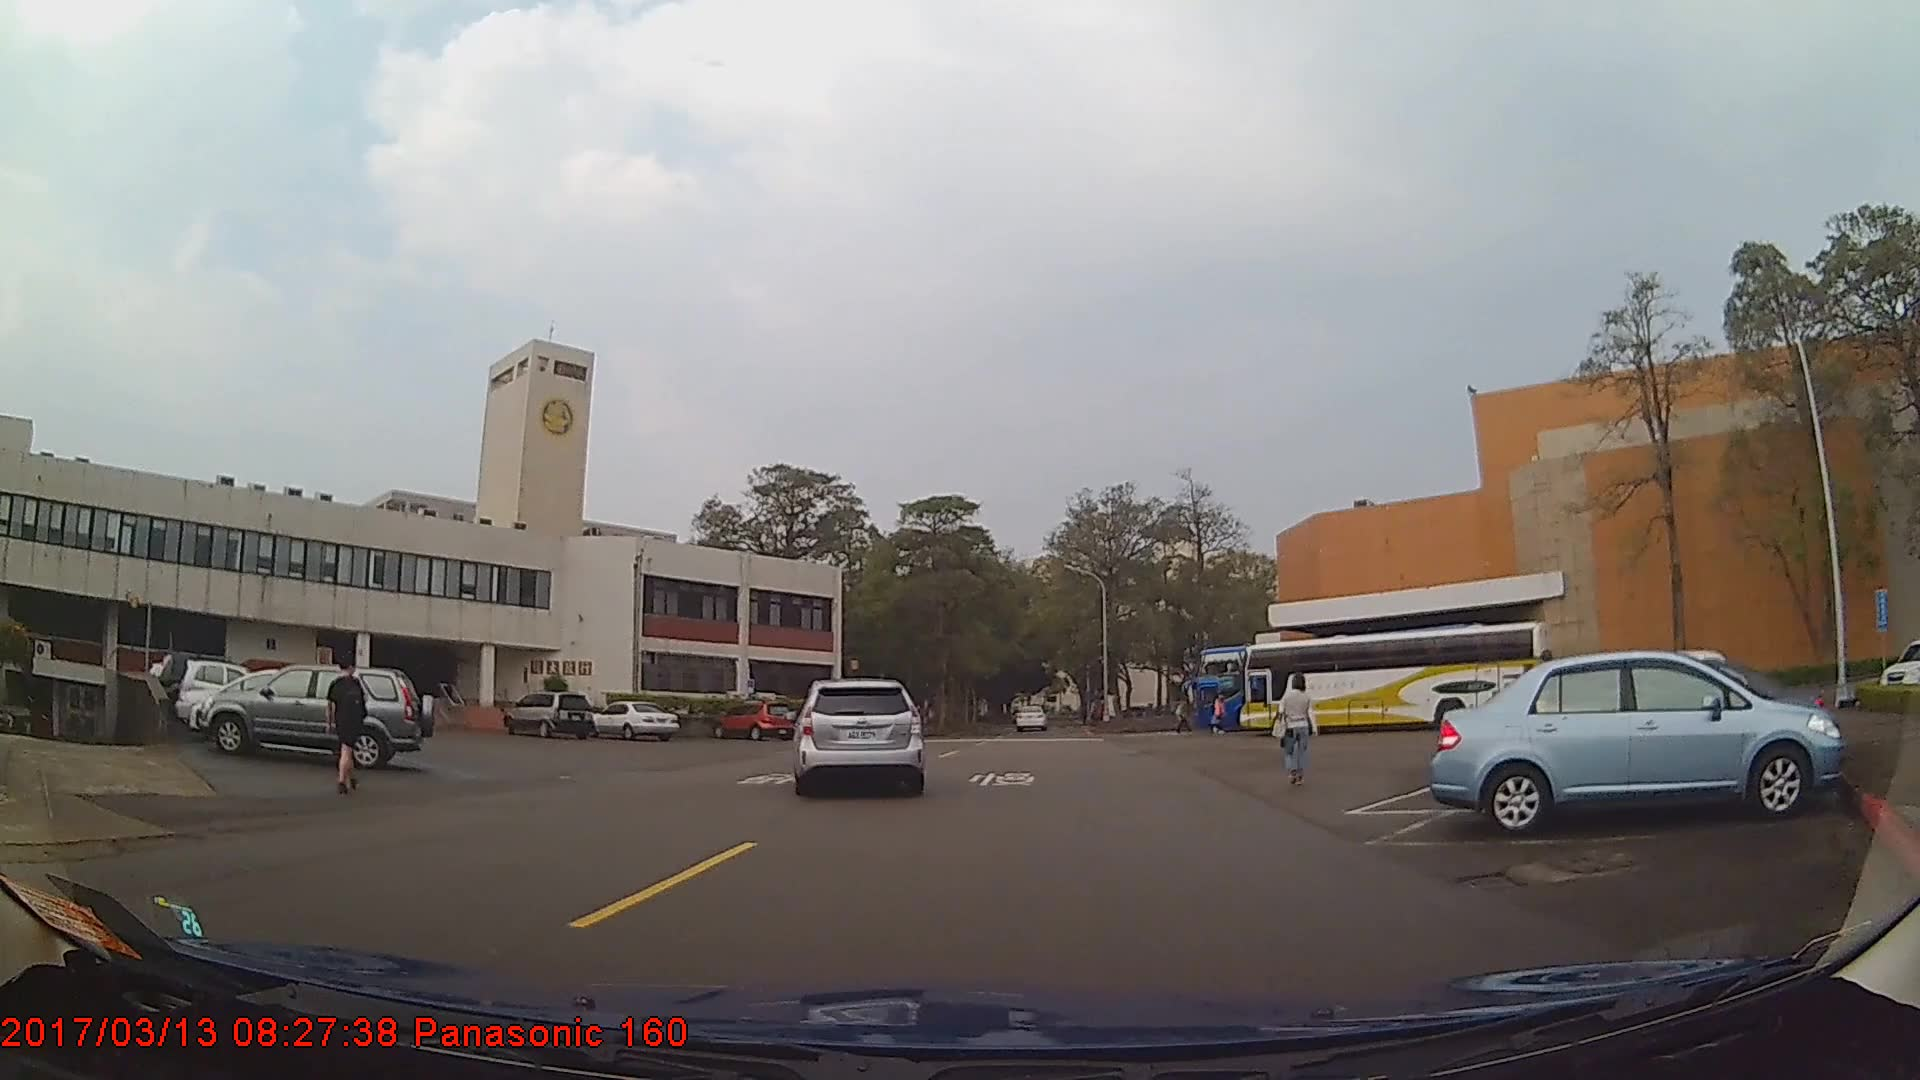pedestrian: (323, 649, 373, 791), (1277, 673, 1317, 788)
vehicle: (1431, 644, 1844, 836), (1239, 619, 1552, 739), (200, 664, 433, 769), (1191, 639, 1440, 733), (795, 677, 921, 795), (178, 658, 282, 721), (503, 690, 596, 740), (589, 698, 682, 740), (712, 699, 795, 739), (1013, 702, 1047, 731)
